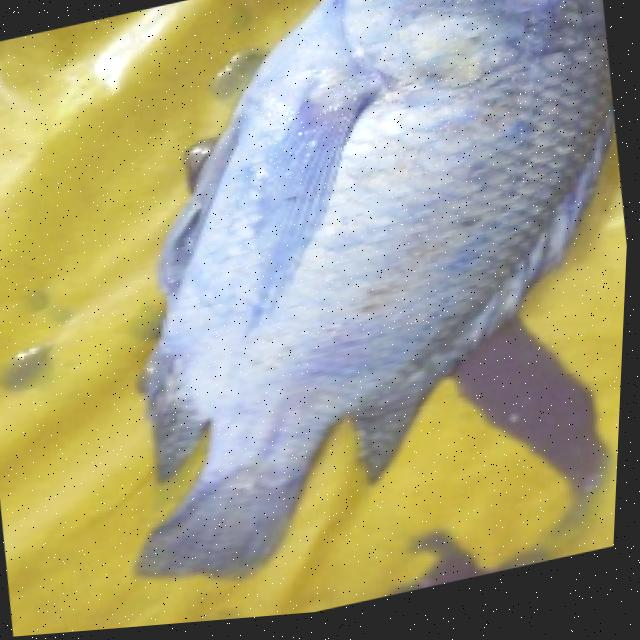Non-Fresh: (141, 0, 640, 394)
